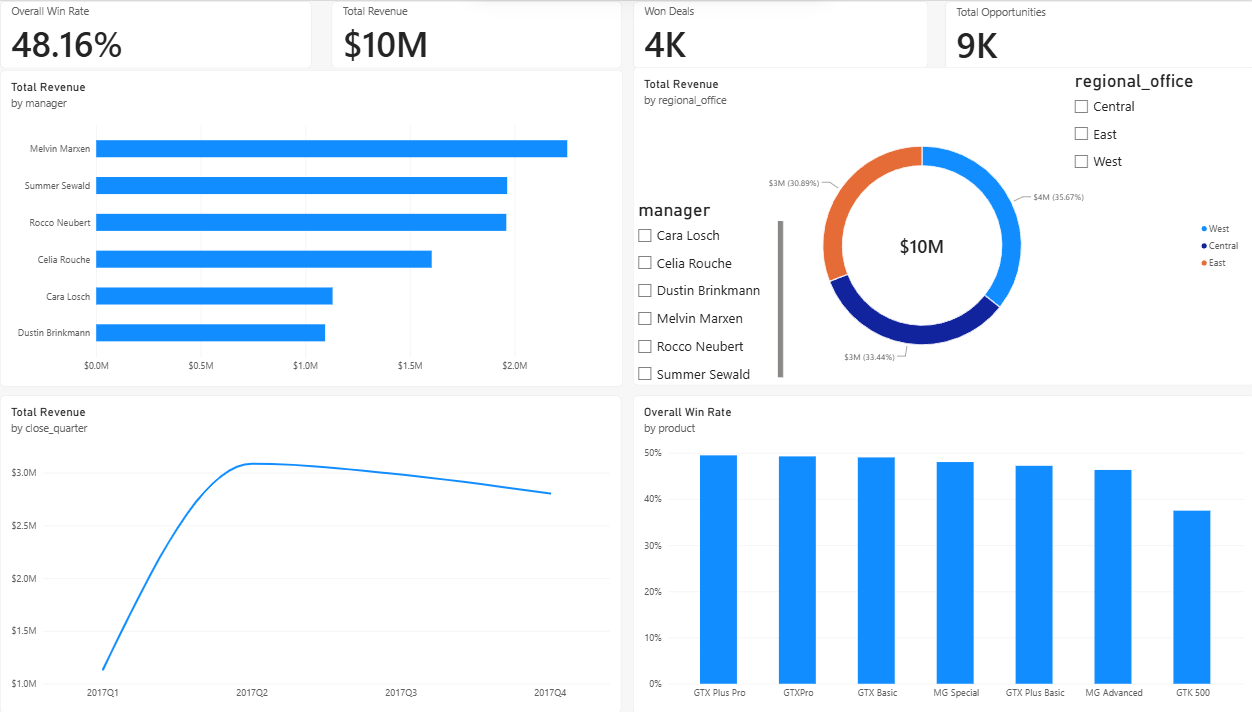

Layout of this report page (visuals, bound fields, positions):
{"tool":"powerbi","page":{"name":"Page 1","canvas":[1920,1080],"ordinal":0},"visuals":[{"type":"cardVisual","fields":{"Data":["cleaned_crm_sales_master.Total Revenue"]},"box":[520.5,0,440.9,102.3],"z":0},{"type":"cardVisual","fields":{"Data":["cleaned_crm_sales_master.Total Opportunities"]},"box":[1450,0,470.5,104.5],"z":1000},{"type":"cardVisual","fields":{"Data":["cleaned_crm_sales_master.Won Deals"]},"box":[977.3,0,447.7,102.3],"z":2000},{"type":"cardVisual","fields":{"Data":["cleaned_crm_sales_master.Overall Win Rate"]},"box":[18.2,0,472.7,102.3],"z":3000},{"type":"clusteredBarChart","fields":{"Category":["cleaned_crm_sales_master.manager"],"Y":["cleaned_crm_sales_master.Total Revenue"]},"box":[18.2,104.5,943.2,479.5],"z":4000},{"type":"donutChart","fields":{"Category":["cleaned_crm_sales_master.regional_office"],"Y":["cleaned_crm_sales_master.Total Revenue"]},"box":[977.3,100,943.2,481.8],"z":5000},{"type":"lineChart","fields":{"Category":["cleaned_crm_sales_master.close_quarter"],"Y":["cleaned_crm_sales_master.Total Revenue"]},"box":[18.2,597.7,940.9,481.8],"z":6000},{"type":"clusteredColumnChart","fields":{"Category":["cleaned_crm_sales_master.product"],"Y":["cleaned_crm_sales_master.Overall Win Rate"]},"box":[977.3,597.7,943.2,481.8],"z":7000},{"type":"slicer","fields":{"Values":["cleaned_crm_sales_master.regional_office"]},"box":[1638.6,104.5,281.8,193.2],"z":8000},{"type":"slicer","fields":{"Values":["cleaned_crm_sales_master.manager"]},"box":[977.3,300,227.3,281.8],"z":9000}]}

Visuals, with their boxes in screenshot pixels (x1, y1, x2, y2), scaled from the page's 1920x1080 canvas onto the 1252x712 screenshot:
cardVisual - cleaned_crm_sales_master.Total Revenue: 339 0 627 67
cardVisual - cleaned_crm_sales_master.Total Opportunities: 946 0 1251 69
cardVisual - cleaned_crm_sales_master.Won Deals: 637 0 929 67
cardVisual - cleaned_crm_sales_master.Overall Win Rate: 12 0 320 67
clusteredBarChart - cleaned_crm_sales_master.manager x cleaned_crm_sales_master.Total Revenue: 12 69 627 385
donutChart - cleaned_crm_sales_master.regional_office x cleaned_crm_sales_master.Total Revenue: 637 66 1251 384
lineChart - cleaned_crm_sales_master.close_quarter x cleaned_crm_sales_master.Total Revenue: 12 394 625 711
clusteredColumnChart - cleaned_crm_sales_master.product x cleaned_crm_sales_master.Overall Win Rate: 637 394 1251 711
slicer - cleaned_crm_sales_master.regional_office: 1069 69 1251 196
slicer - cleaned_crm_sales_master.manager: 637 198 785 384
